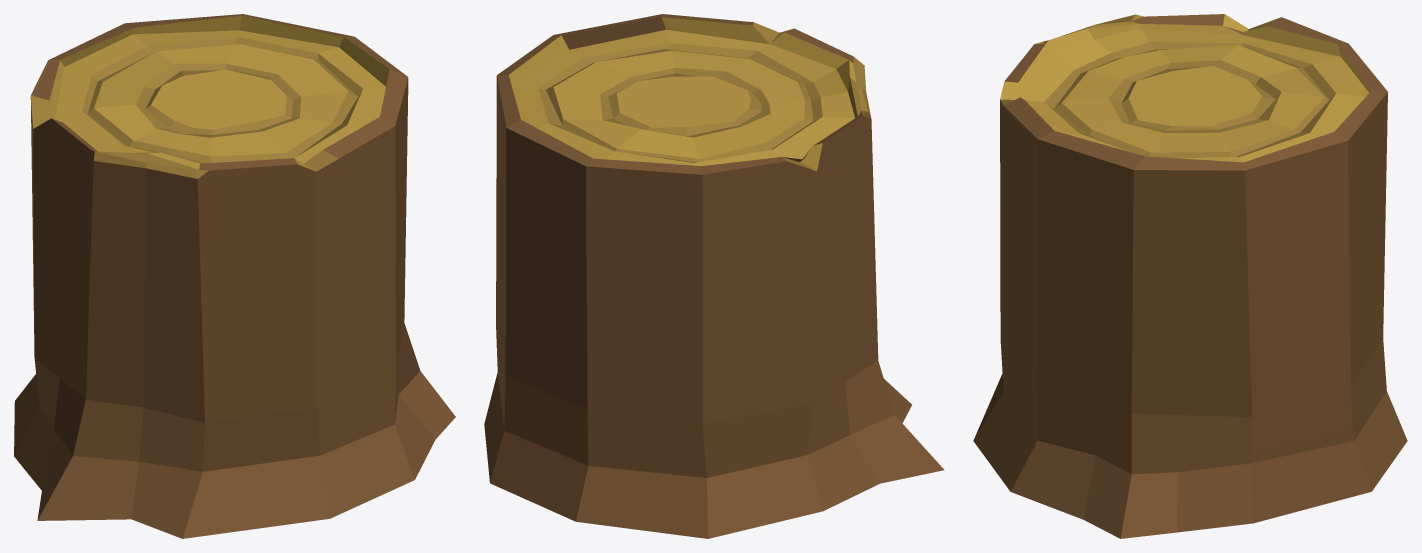
The model's file is tree stump 2.fbx.
3 renders of one model, left to right at view 1: azimuth 30°, elevation 25°; view 2: azimuth 150°, elevation 25°; view 3: azimuth 270°, elevation 25°, orthographic.
Visible parts, largest first — view 1: Cylinder; view 2: Cylinder; view 3: Cylinder.
Part boxes in pixels (x1,y1,x2,y2): Cylinder: [14, 14, 455, 538]; Cylinder: [484, 14, 944, 538]; Cylinder: [973, 14, 1407, 538].
Bounding box in the file's own units: 254 × 204 × 225.
